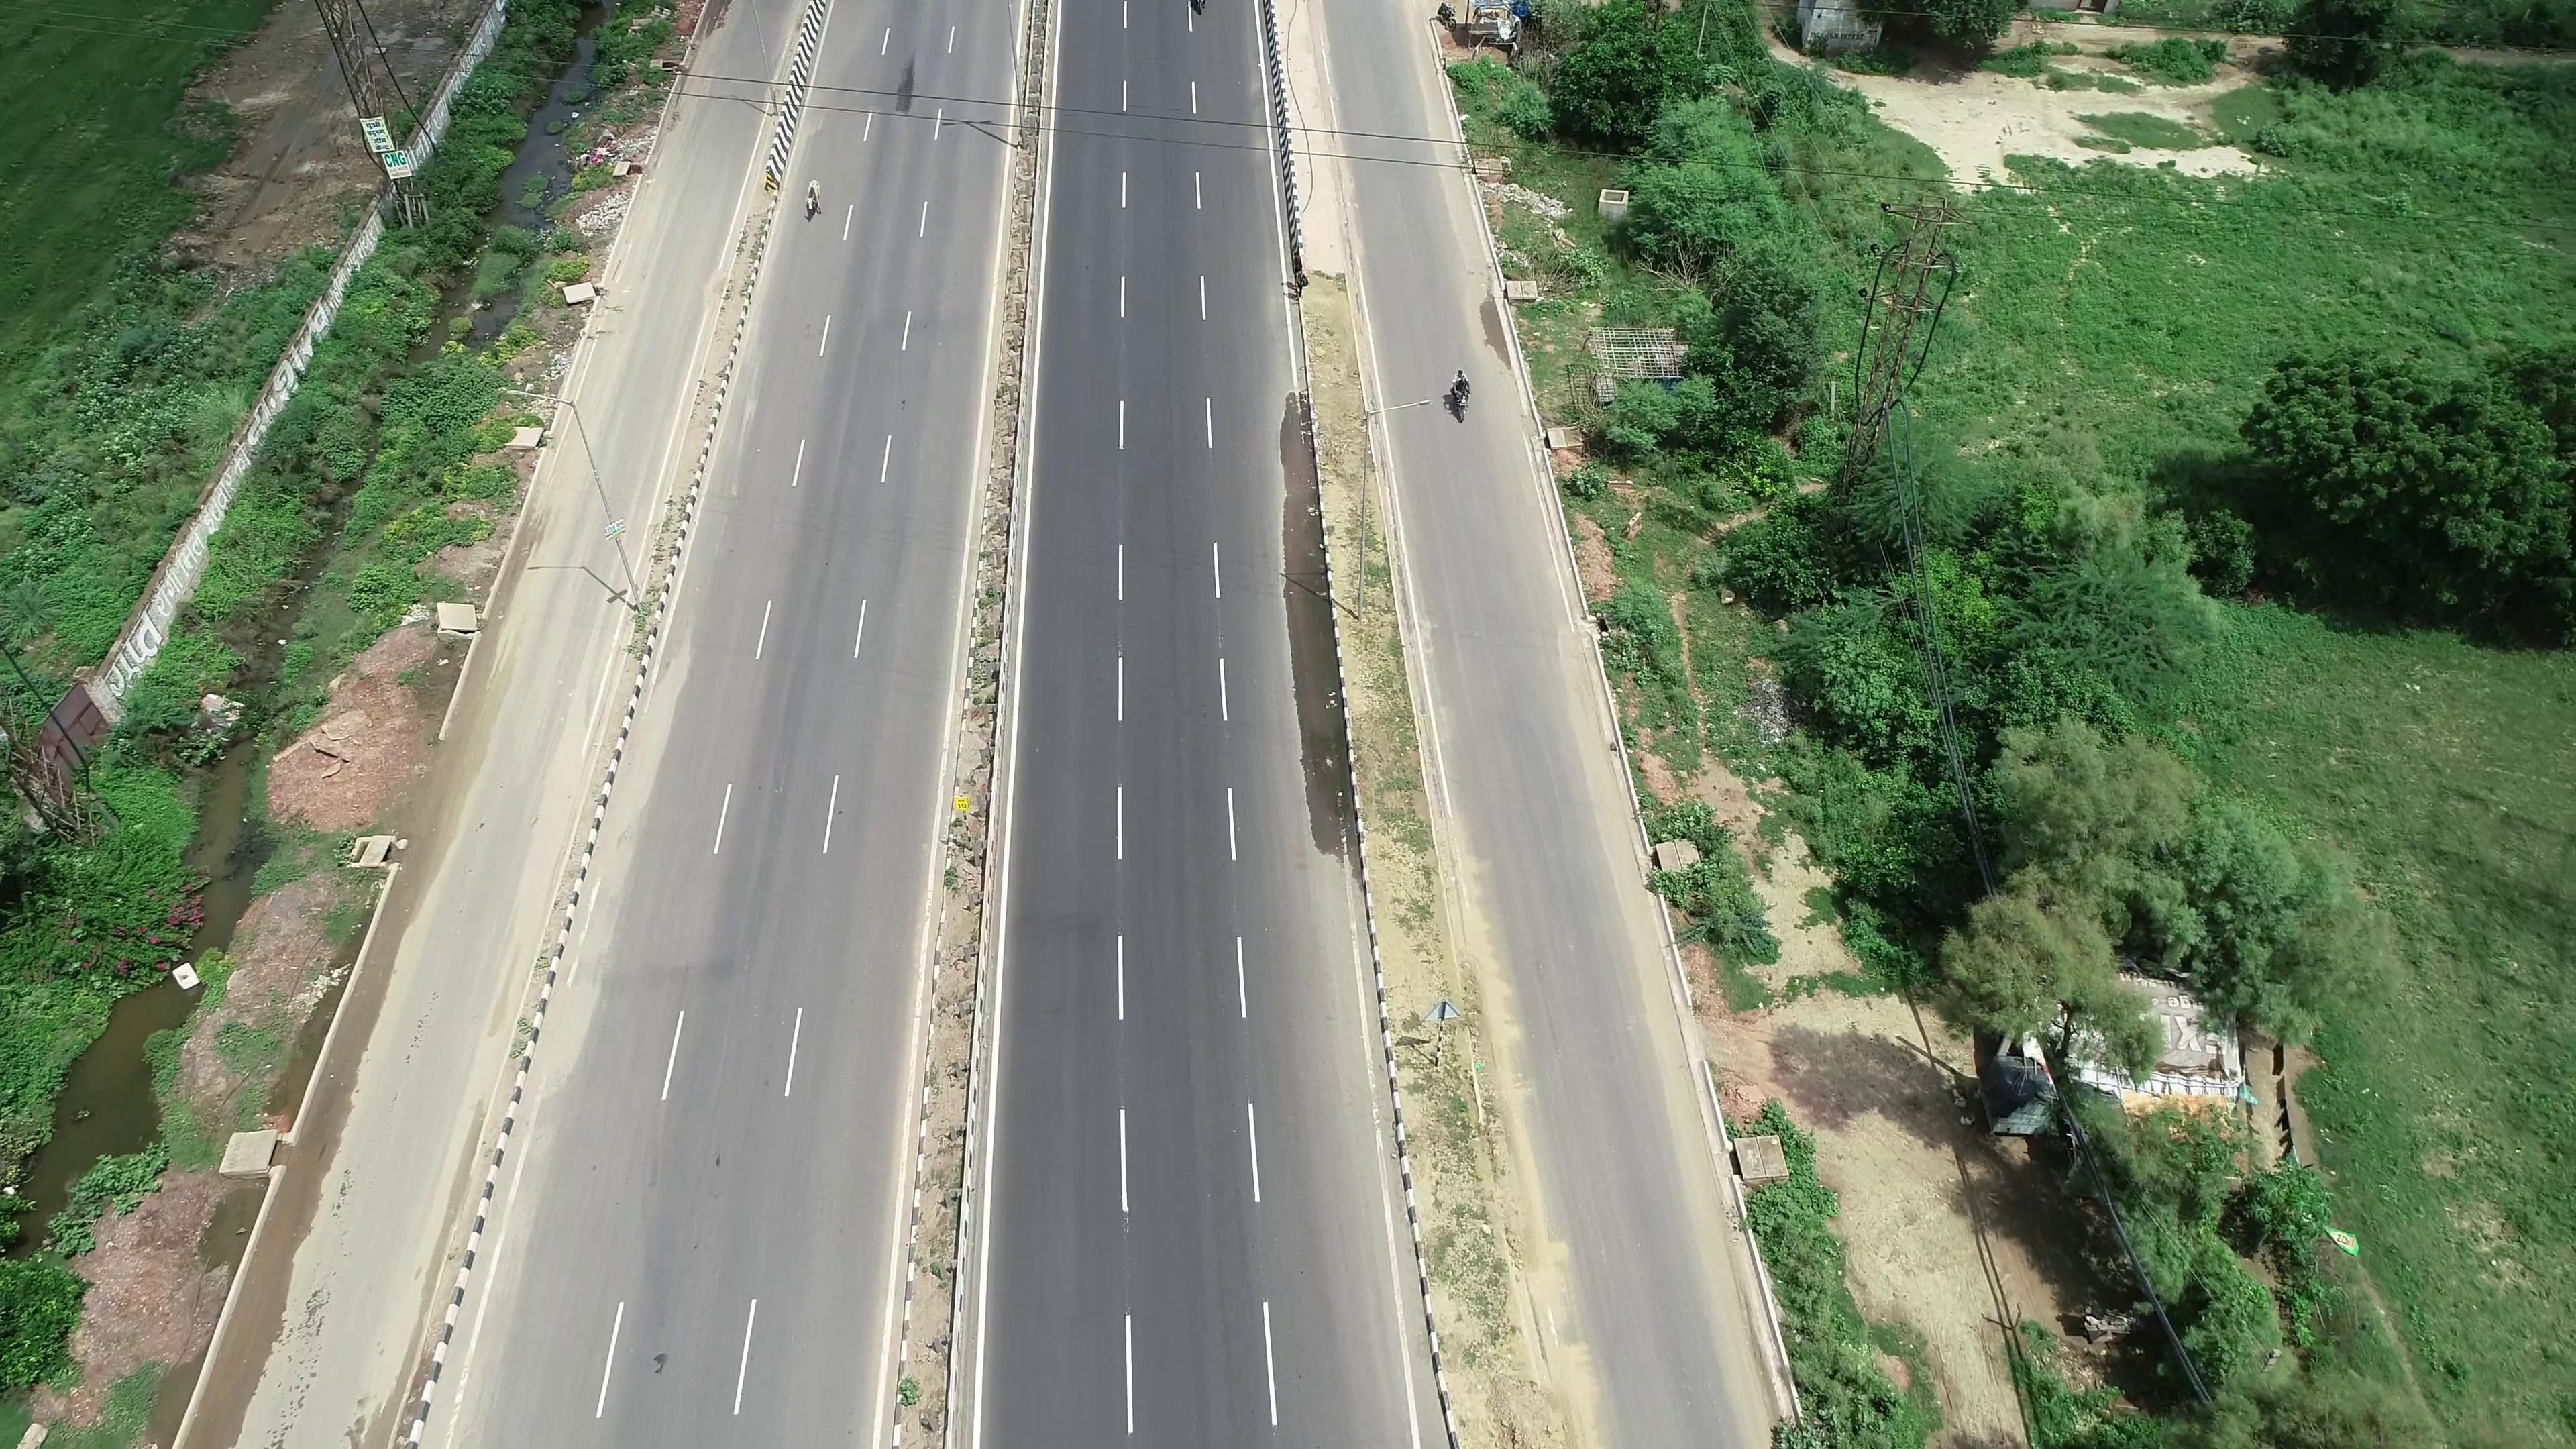Waterlogging: (1265, 487, 1341, 786)
